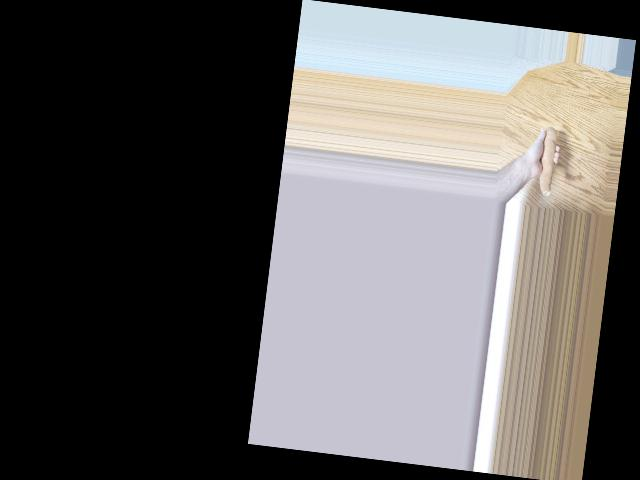sweet_potato: (529, 124, 559, 197)
